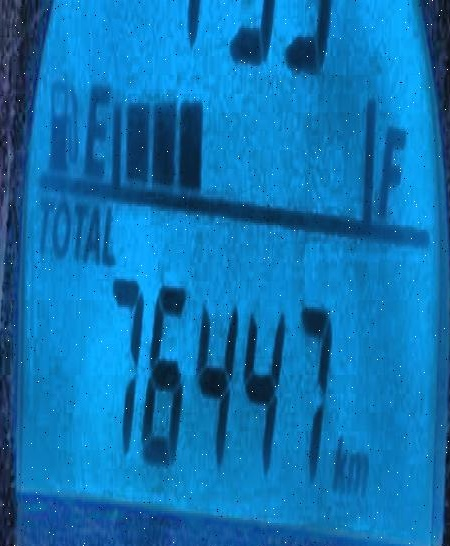4: (196, 286, 240, 466), (244, 288, 285, 478)
6: (141, 262, 186, 473)
7: (297, 288, 333, 480), (111, 267, 145, 468)
X: (80, 61, 113, 183), (377, 108, 405, 223), (72, 182, 88, 255), (348, 440, 369, 494), (53, 192, 70, 255), (36, 187, 53, 250), (102, 199, 118, 262), (86, 199, 101, 264), (333, 433, 348, 492)
